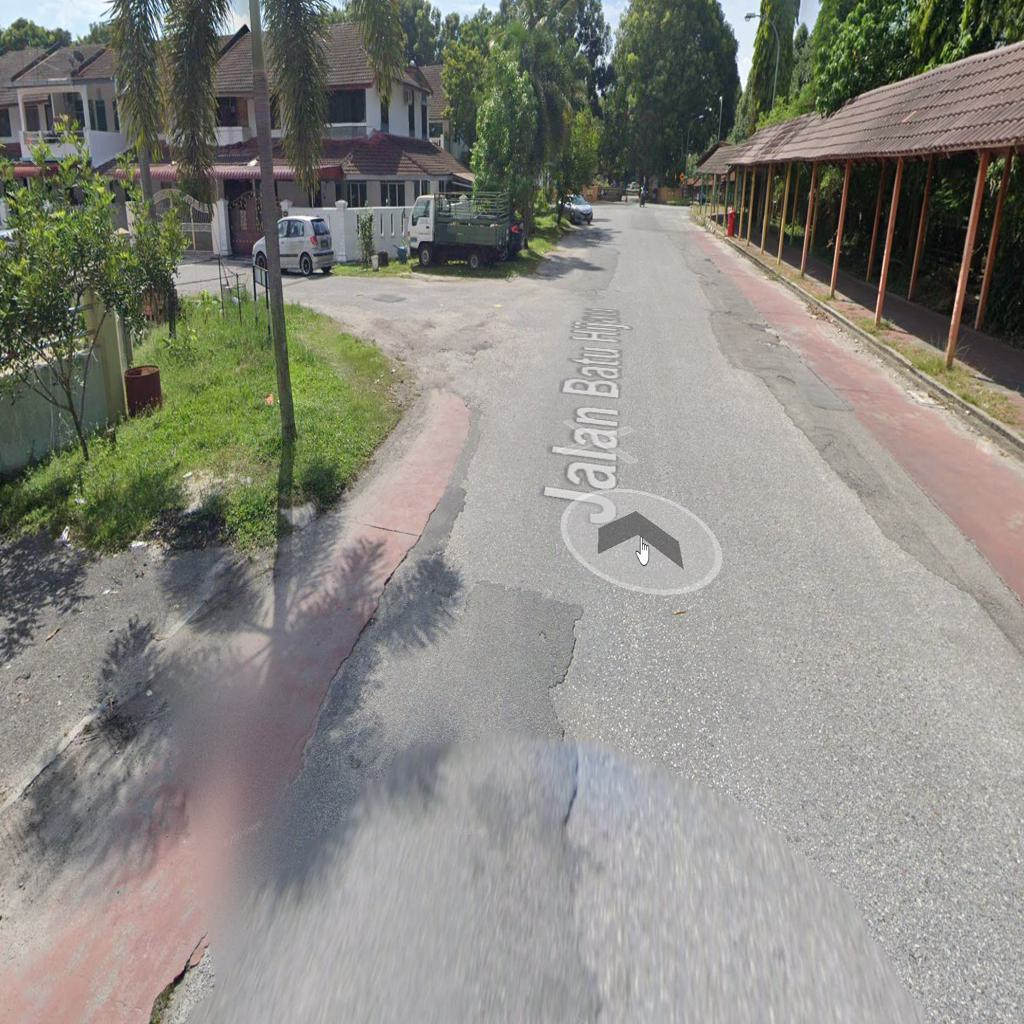Junction: (282, 193, 585, 481)
